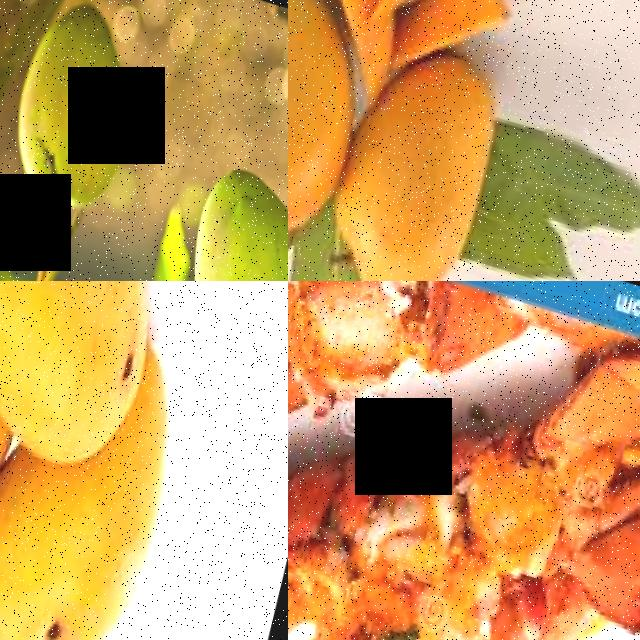lobster tails: (332, 308, 640, 640)
mango: (307, 33, 514, 281), (0, 281, 176, 476), (0, 0, 156, 218), (288, 9, 370, 276), (164, 150, 288, 281)
